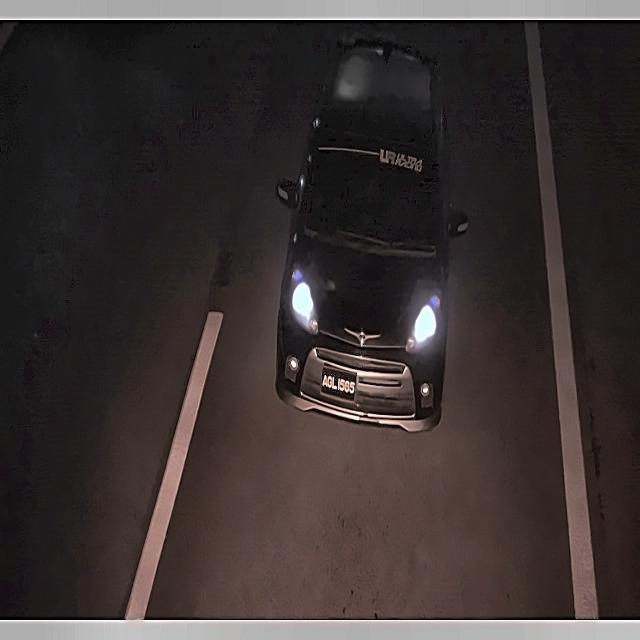car: (318, 355, 360, 403)
